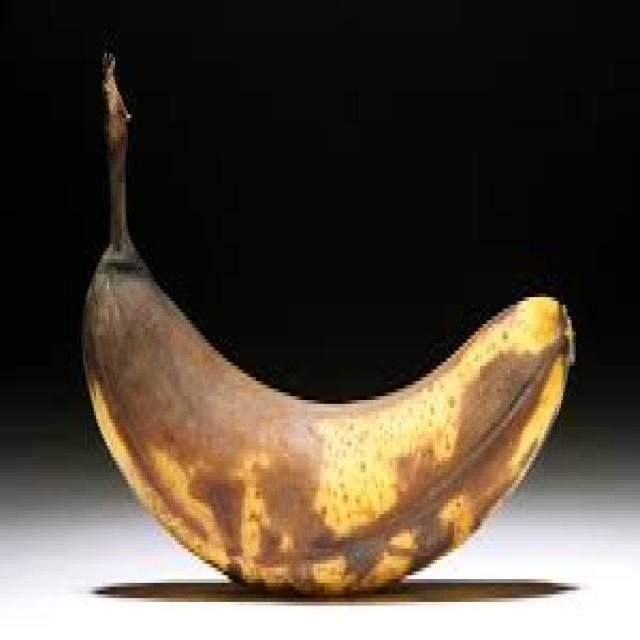Banana: (71, 49, 594, 608)
